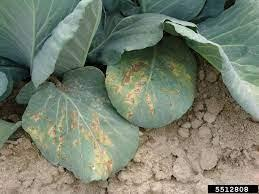Bok-Choy-Diseased: (19, 66, 141, 178), (108, 39, 199, 131)
